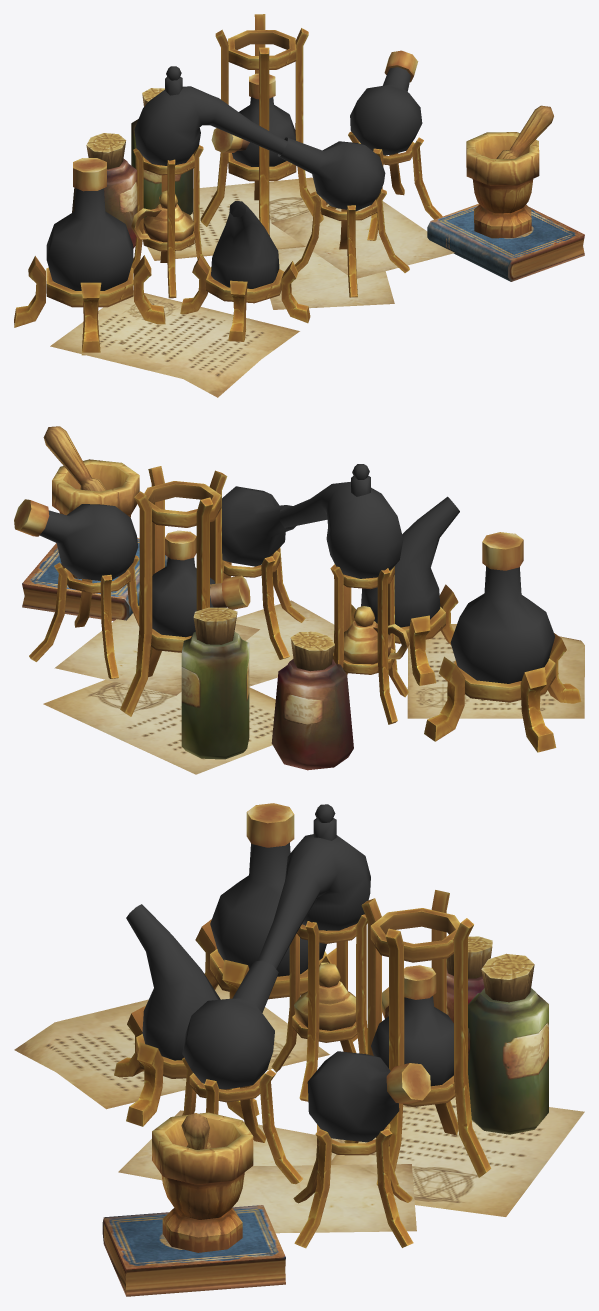
The model's file is Table_Preset_01.FBX.
The picture shows the model from 3 angles, top to bottom: view 1: azimuth 30°, elevation 25°; view 2: azimuth 150°, elevation 25°; view 3: azimuth 270°, elevation 25°; orthographic projection. The views are drawn at different scales.
Parts seen in each view (by area): view 1: Table_Preset_01; view 2: Table_Preset_01; view 3: Table_Preset_01.
Boxes of the visible parts, bbox=[...] form: Table_Preset_01: bbox=[14, 14, 584, 397]; Table_Preset_01: bbox=[14, 426, 584, 774]; Table_Preset_01: bbox=[14, 803, 584, 1296].
Bounding box in the file's own units: 156 × 118 × 67.09.
